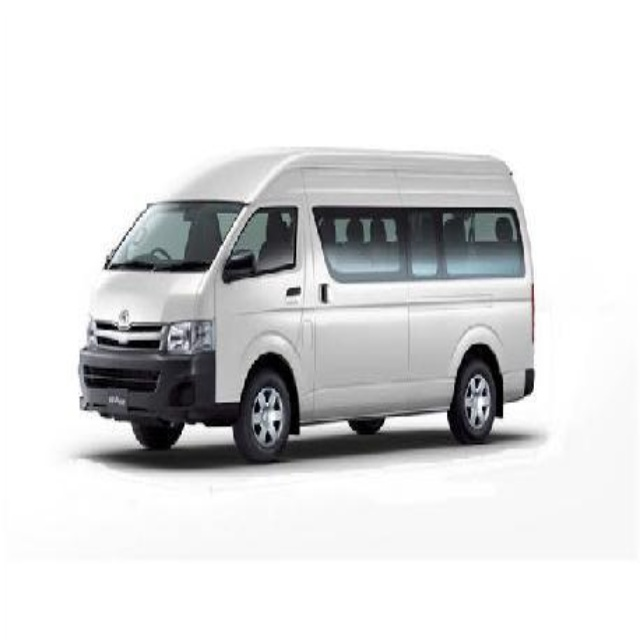Van: (77, 145, 535, 463)
